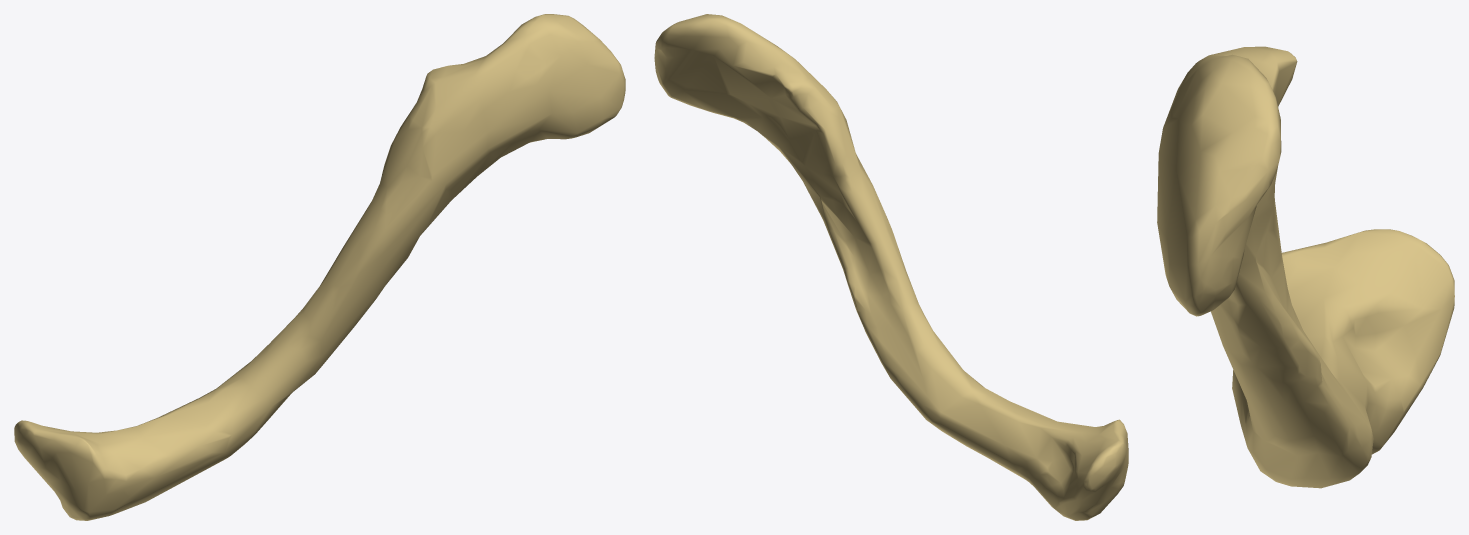
3 renders of one model, left to right at view 1: azimuth 30°, elevation 25°; view 2: azimuth 150°, elevation 25°; view 3: azimuth 270°, elevation 25°, orthographic. The views are drawn at different scales.
Visible parts, largest first — view 1: 左侧锁骨; view 2: 左侧锁骨; view 3: 左侧锁骨.
Part boxes in pixels (x1,y1,x2,y2): 左侧锁骨: (14, 14, 625, 520); 左侧锁骨: (654, 14, 1128, 520); 左侧锁骨: (1157, 46, 1454, 488).
Size of the model in its own units: 0.2109 by 0.1514 by 0.0532.
